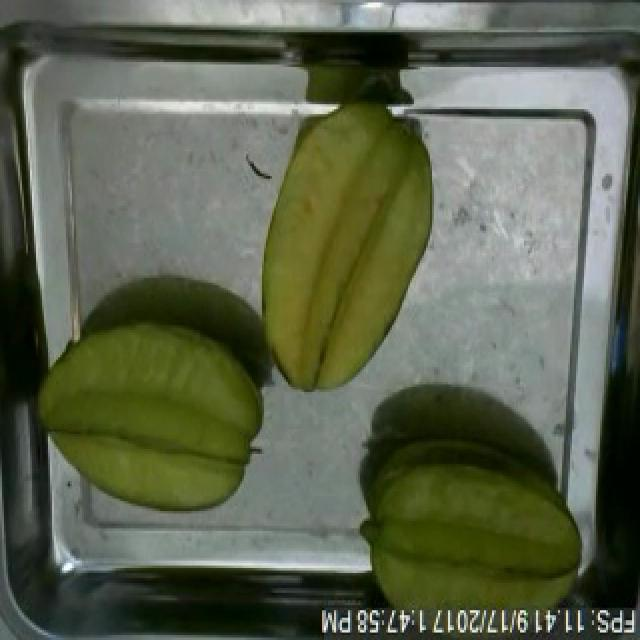fruit: (248, 89, 444, 407), (24, 310, 276, 528), (354, 447, 592, 625)
